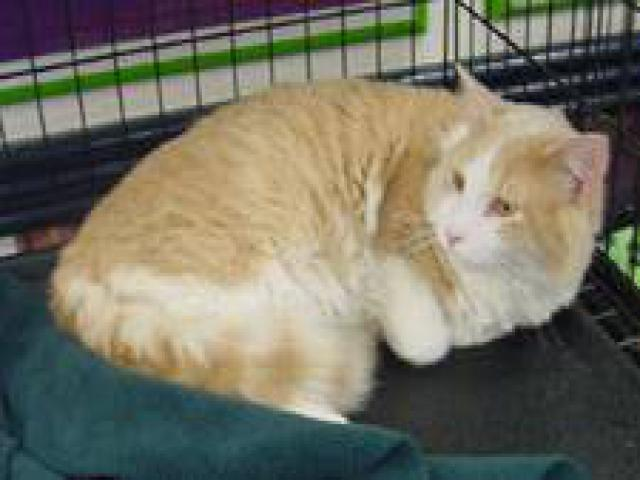cat: (41, 68, 606, 418)
